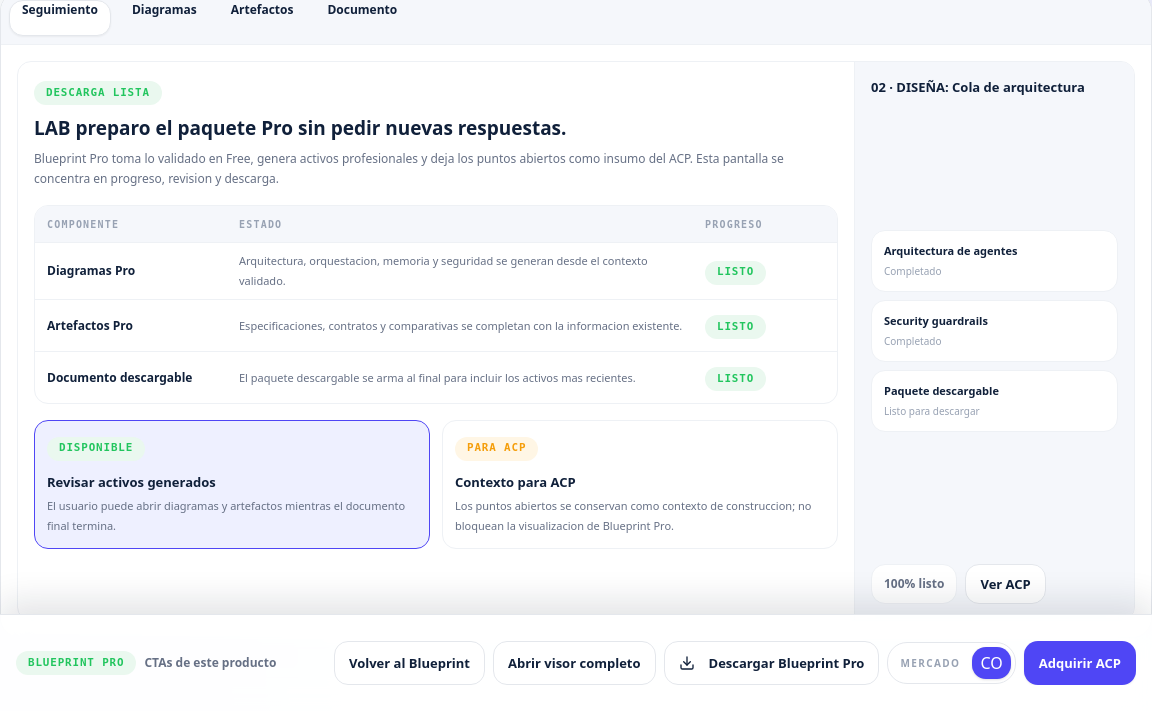
it: UXA11 SaaS product views › explains Blueprint Pro download preparation while the export job is pending
The width and height of the screenshot is (1152, 711).
Click the button "Descargar Blueprint Pro" at (771, 663), box 664,641 -> 879,685
(page scrolled)
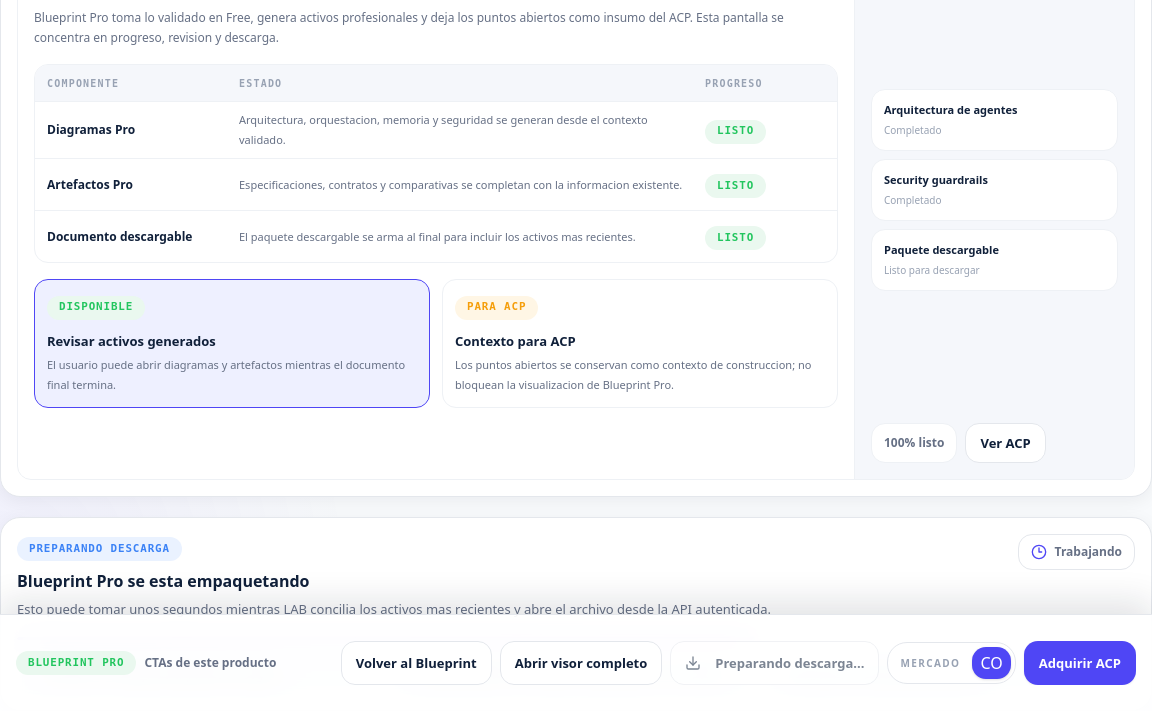
Expected: the list item "Creando un trabajo de exportacion seguro" is shown, 43,666 -> 282,683
Expected: the heading "Blueprint Pro se esta empaquetando" is shown, 17,570 -> 310,592
Expected: the text "LAB concilia los activos mas recientes" is shown, 17,600 -> 771,618
